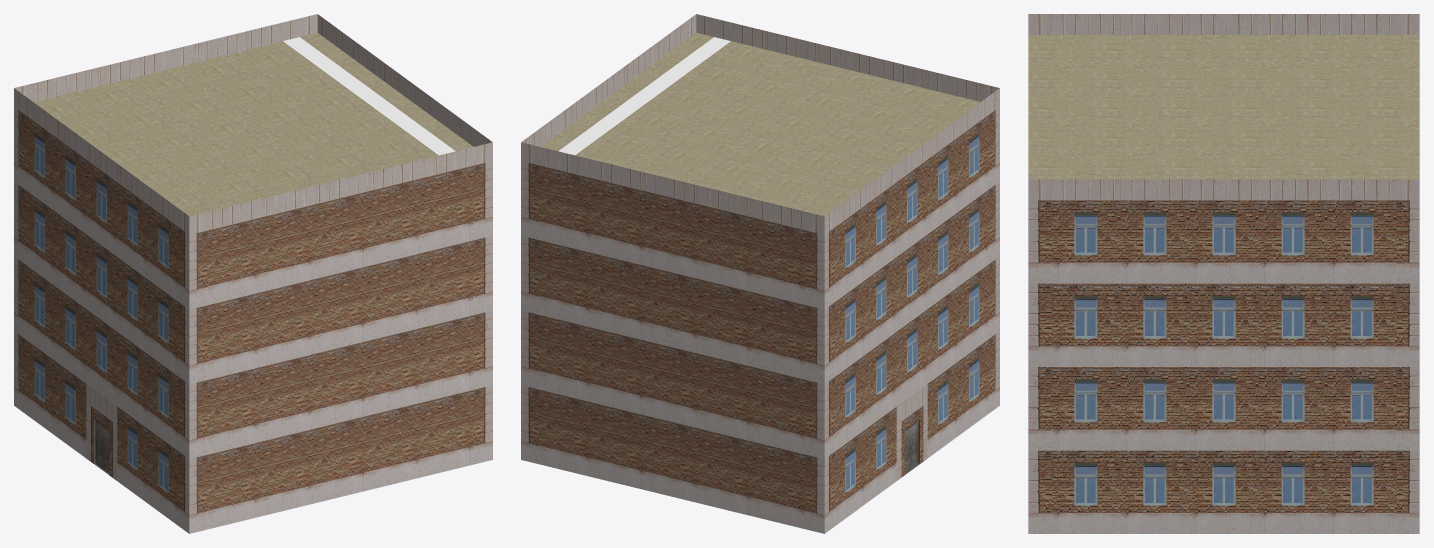
File: flat_square_brick.glb
3 renders of one model, left to right at view 1: azimuth 30°, elevation 25°; view 2: azimuth 150°, elevation 25°; view 3: azimuth 270°, elevation 25°, orthographic. The views are drawn at different scales.
Visible parts, largest first — view 1: flat_square_brick; view 2: flat_square_brick; view 3: flat_square_brick.
Boxes of the visible parts, left/top/right/bottom form: flat_square_brick: left=14, top=14, right=492, bottom=533; flat_square_brick: left=521, top=14, right=999, bottom=533; flat_square_brick: left=1028, top=14, right=1419, bottom=533.
Size of the model in its own units: 17 by 17 by 17.
1 material, 1 textured.
